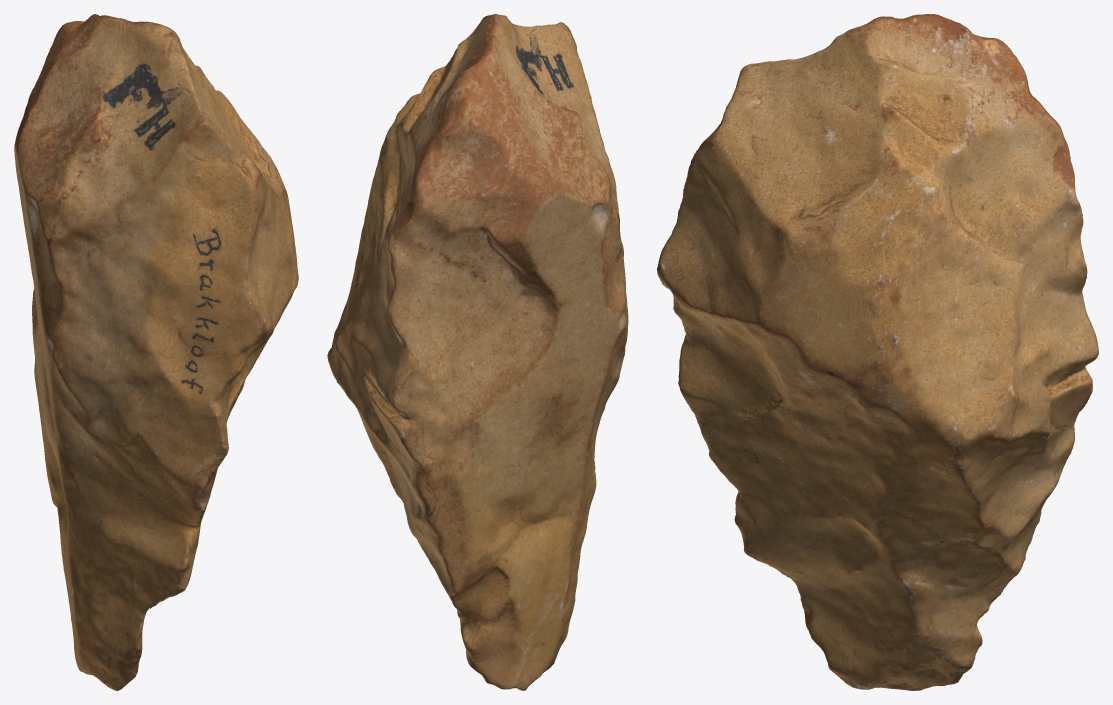
Rendered from acheulean_hand_axe.glb.
3 views of the same model, side by side, from view 1: azimuth 30°, elevation 25°; view 2: azimuth 150°, elevation 25°; view 3: azimuth 270°, elevation 25° (orthographic). The views are drawn at different scales.
Visible parts, largest first — view 1: FLOOR_1_LPobjcleanermaterialmergergles; view 2: FLOOR_1_LPobjcleanermaterialmergergles; view 3: FLOOR_1_LPobjcleanermaterialmergergles.
Boxes of the visible parts, x1,y1,x2,y2 form: FLOOR_1_LPobjcleanermaterialmergergles: (14,14,298,690); FLOOR_1_LPobjcleanermaterialmergergles: (327,14,628,690); FLOOR_1_LPobjcleanermaterialmergergles: (657,14,1098,690).
Size of the model in its own units: 0.0663 by 0.1693 by 0.0972.
Materials: 3 (3 with a texture image).
